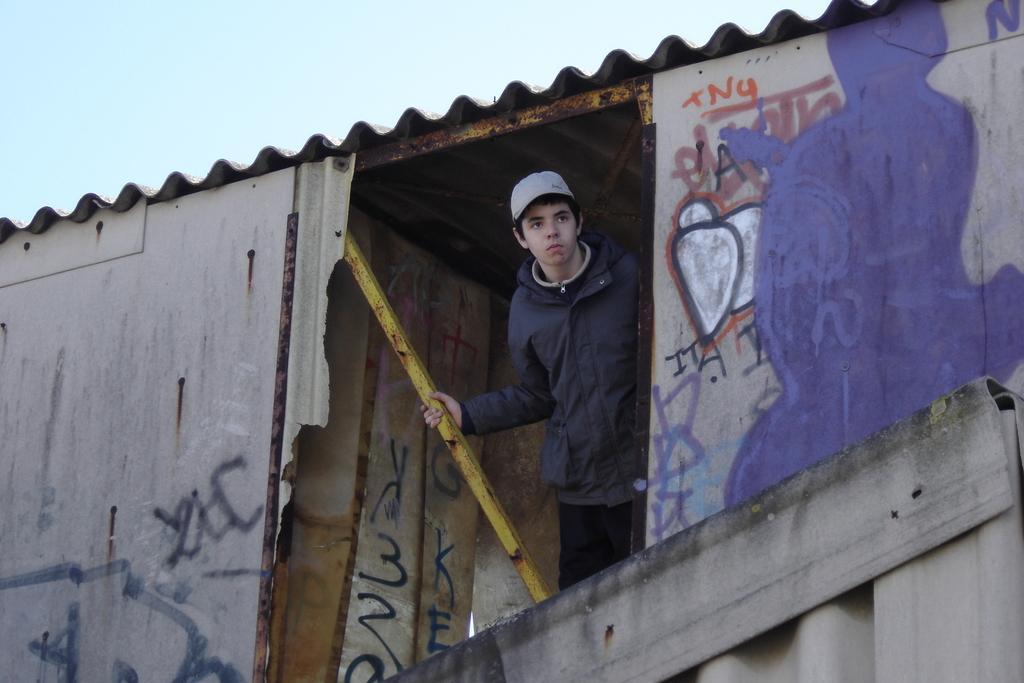Sem Máscara: (516, 201, 572, 263)
